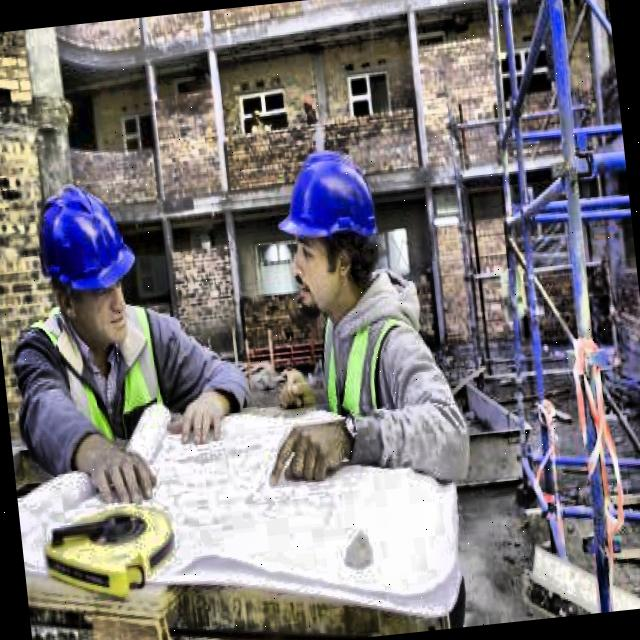helmet: (265, 131, 401, 328), (24, 170, 154, 352)
